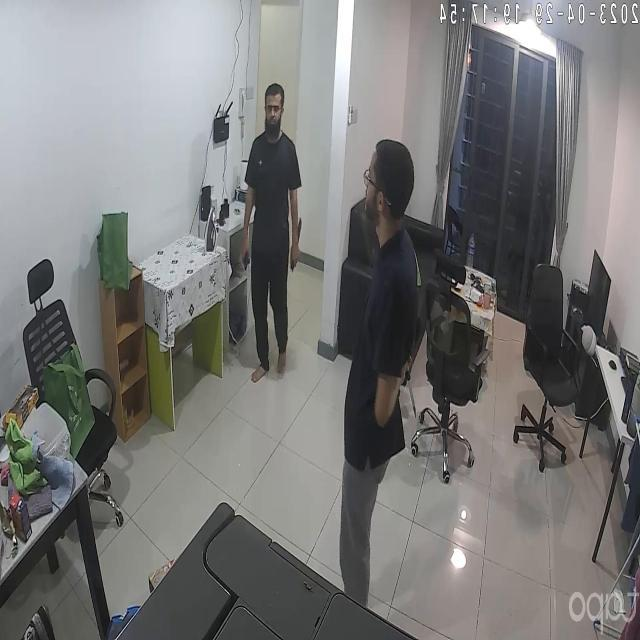Knife: (287, 218, 309, 271)
